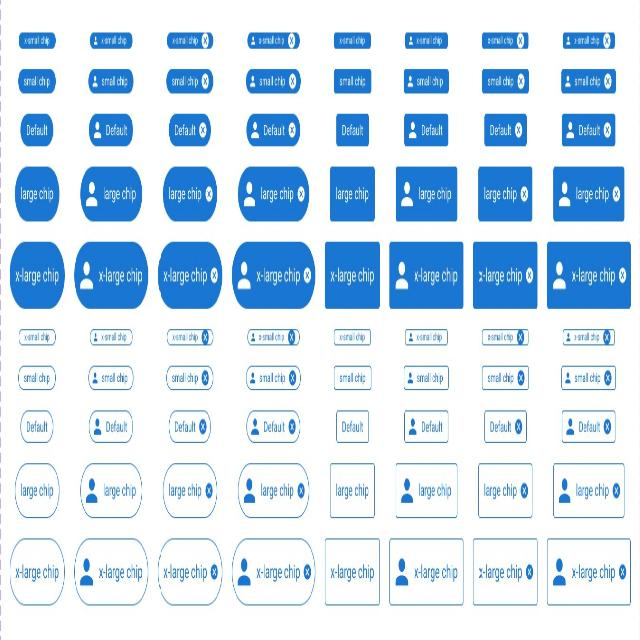QLabel: (96, 562, 144, 583), (329, 562, 377, 583), (14, 562, 61, 583), (569, 563, 616, 584), (411, 562, 458, 583), (162, 562, 208, 583), (96, 266, 144, 286), (412, 266, 459, 286), (329, 266, 376, 286), (162, 266, 209, 286), (15, 266, 61, 286), (570, 266, 616, 286), (477, 563, 523, 583), (478, 266, 523, 286), (255, 266, 300, 286), (256, 563, 300, 583), (415, 184, 453, 204), (257, 185, 296, 204), (572, 184, 611, 203), (333, 184, 370, 204), (19, 185, 56, 204), (482, 185, 518, 204), (100, 185, 138, 203), (416, 482, 453, 500), (100, 482, 137, 500), (573, 482, 612, 499), (167, 185, 203, 203), (334, 482, 370, 500), (19, 482, 55, 500), (482, 482, 518, 500), (258, 482, 294, 499), (168, 482, 202, 499), (256, 74, 288, 88), (416, 370, 444, 386), (337, 371, 367, 385), (100, 74, 130, 88), (486, 74, 514, 89), (415, 74, 445, 88), (486, 371, 514, 386), (170, 371, 199, 385), (100, 370, 129, 384), (338, 74, 367, 88), (22, 74, 51, 88), (170, 74, 199, 88), (573, 370, 602, 384), (574, 74, 601, 89), (259, 370, 286, 385), (23, 122, 50, 137), (262, 418, 287, 434), (173, 122, 198, 138), (418, 122, 444, 137), (23, 372, 50, 386), (485, 34, 514, 47), (340, 419, 365, 434), (173, 419, 198, 434), (488, 122, 513, 137), (24, 419, 49, 434), (262, 122, 287, 137), (488, 419, 513, 434), (104, 122, 129, 137), (578, 121, 601, 137), (415, 331, 443, 344), (340, 122, 364, 137), (170, 34, 200, 46), (419, 419, 443, 434), (105, 419, 129, 434), (572, 330, 601, 342), (257, 34, 286, 46), (577, 419, 600, 434), (100, 34, 128, 46), (257, 331, 285, 343), (22, 332, 52, 343), (573, 34, 600, 46), (22, 35, 51, 46), (100, 331, 128, 342), (416, 35, 444, 46), (338, 332, 366, 343), (486, 332, 513, 343), (172, 332, 198, 343), (338, 36, 366, 46)
VChip: (546, 537, 632, 608), (546, 240, 631, 310), (231, 538, 316, 606), (232, 242, 316, 310), (388, 537, 464, 607), (389, 241, 464, 310), (74, 538, 148, 607), (74, 241, 148, 310), (472, 240, 538, 311), (472, 537, 538, 606), (157, 538, 223, 606), (157, 241, 222, 310), (552, 165, 625, 222), (552, 463, 625, 519), (238, 462, 309, 519), (324, 240, 380, 311), (238, 167, 310, 222), (8, 537, 65, 606), (8, 241, 65, 310), (324, 537, 380, 606), (394, 461, 458, 521), (395, 166, 458, 223), (80, 463, 142, 519), (80, 166, 142, 221), (162, 463, 218, 519), (477, 166, 533, 222), (478, 462, 532, 519), (163, 166, 217, 222), (329, 462, 376, 520), (330, 165, 376, 223), (14, 462, 60, 520), (14, 166, 60, 222), (561, 409, 616, 444), (561, 113, 616, 147), (247, 409, 300, 444), (246, 113, 300, 147), (88, 409, 135, 444), (403, 409, 449, 444), (483, 409, 528, 444), (560, 364, 616, 392), (89, 113, 134, 147), (246, 364, 302, 391), (404, 113, 448, 147), (168, 113, 212, 147), (169, 409, 211, 444), (484, 113, 527, 147), (246, 68, 300, 95), (561, 68, 616, 94), (482, 68, 530, 95), (481, 365, 529, 391), (403, 68, 449, 95), (166, 364, 213, 390), (166, 68, 213, 94), (88, 365, 134, 391), (88, 68, 134, 94), (403, 365, 449, 391), (20, 113, 54, 147), (336, 409, 369, 444), (336, 113, 369, 147), (20, 409, 53, 443), (18, 67, 56, 95), (17, 364, 56, 390), (334, 68, 371, 95), (334, 365, 372, 391), (247, 328, 300, 346), (562, 329, 615, 346), (562, 32, 615, 49), (247, 32, 300, 49), (481, 328, 528, 347), (166, 32, 214, 50), (166, 328, 214, 346), (404, 31, 448, 50), (89, 32, 133, 50), (89, 328, 133, 346), (482, 32, 528, 49), (405, 328, 448, 346), (333, 328, 371, 346), (333, 32, 371, 50), (18, 32, 56, 49), (18, 329, 56, 346)
VIcon: (236, 261, 252, 291), (394, 262, 409, 291), (552, 261, 566, 290), (552, 558, 566, 586), (80, 558, 94, 586), (394, 559, 408, 587), (237, 558, 251, 586), (80, 262, 94, 289), (242, 180, 255, 208), (400, 181, 413, 208), (85, 477, 98, 503), (558, 182, 570, 208), (86, 181, 98, 207), (558, 478, 570, 503), (400, 478, 412, 503), (243, 478, 255, 503), (408, 121, 418, 140), (565, 121, 575, 140), (250, 121, 260, 140), (566, 417, 575, 436), (408, 417, 417, 436), (514, 121, 523, 139), (618, 564, 627, 581), (93, 418, 102, 435), (93, 121, 101, 139), (520, 186, 528, 204), (251, 418, 259, 436), (604, 122, 612, 139), (288, 122, 296, 139), (198, 122, 206, 139), (304, 267, 312, 284), (288, 73, 296, 90), (210, 267, 218, 284), (199, 418, 207, 435), (288, 418, 296, 435), (297, 482, 305, 499), (618, 268, 626, 284), (612, 186, 620, 202), (288, 32, 296, 48), (205, 186, 213, 202), (604, 74, 612, 90), (525, 268, 533, 284), (205, 483, 213, 499), (201, 74, 209, 90), (201, 370, 209, 386), (303, 564, 311, 580), (516, 370, 524, 386), (612, 482, 620, 498), (297, 186, 305, 202), (201, 33, 209, 48), (603, 33, 611, 48), (406, 74, 414, 89), (520, 483, 528, 498), (202, 329, 210, 344), (210, 565, 218, 580), (517, 73, 524, 89), (514, 420, 522, 434), (289, 370, 296, 386), (604, 370, 611, 386), (604, 419, 611, 435), (526, 564, 533, 580), (517, 33, 524, 48), (564, 74, 571, 88), (517, 330, 524, 344), (249, 74, 256, 88), (288, 331, 295, 344), (92, 74, 98, 88), (92, 371, 98, 385), (250, 371, 256, 384), (604, 331, 610, 343), (565, 372, 571, 384), (408, 371, 413, 385), (250, 35, 256, 46), (565, 36, 571, 46), (250, 332, 256, 342), (565, 332, 571, 342), (93, 36, 98, 46), (93, 332, 98, 342), (408, 36, 413, 46), (408, 332, 413, 342)
